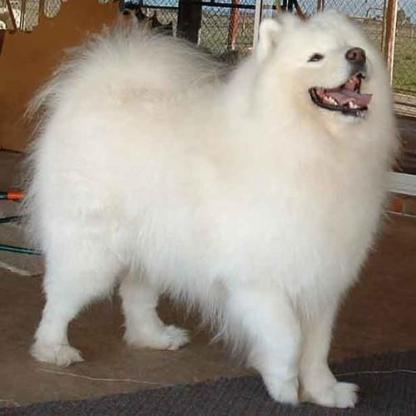Samoyed: (14, 7, 401, 410)
